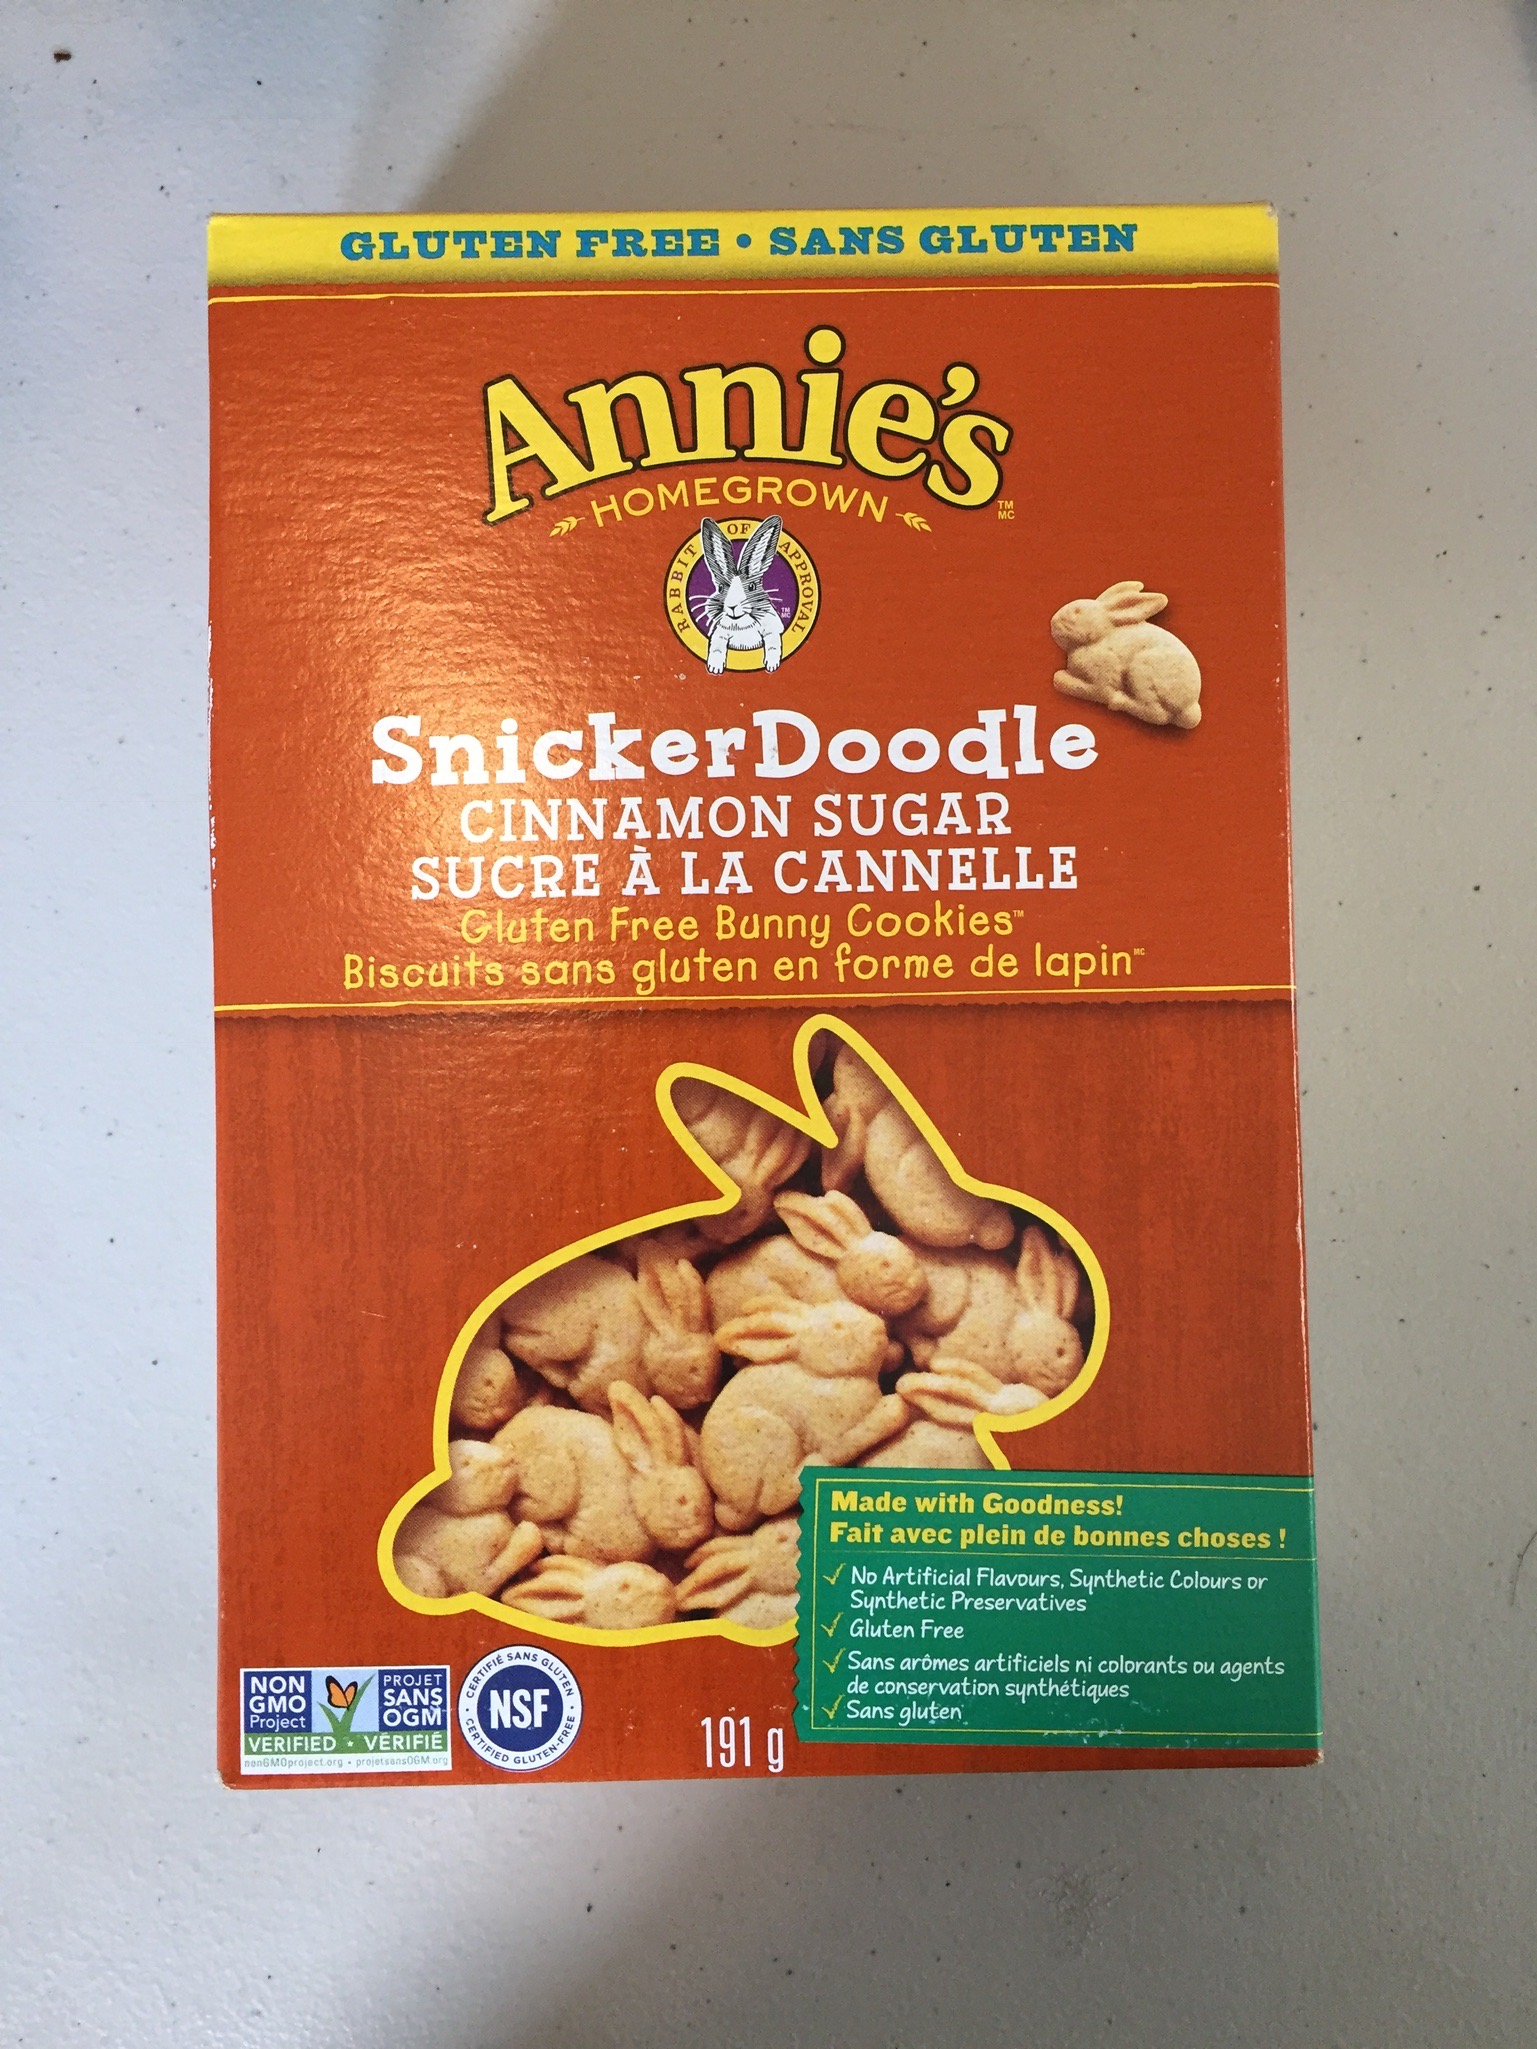annies_snickerdoodle_cinnamon_sugar: (221, 220, 1308, 1755)
